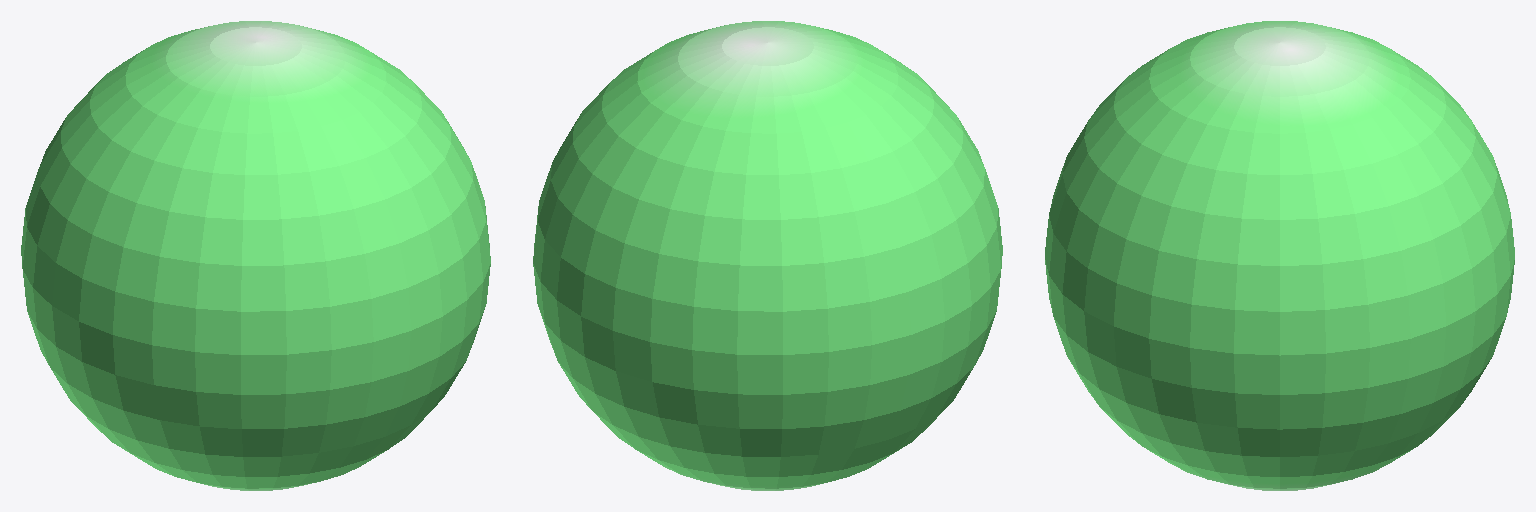
The picture shows the model from 3 angles: view 1: azimuth 30°, elevation 25°; view 2: azimuth 150°, elevation 25°; view 3: azimuth 270°, elevation 25°; orthographic projection.
Parts seen in each view (by area): view 1: 球; view 2: 球; view 3: 球.
Boxes of the visible parts, x1,y1,x2,y2 form: 球: [21, 21, 490, 490]; 球: [533, 21, 1002, 490]; 球: [1045, 21, 1514, 490].
Size of the model in its own units: 0.5 by 0.5 by 0.5.
1 materials, 1 textured.